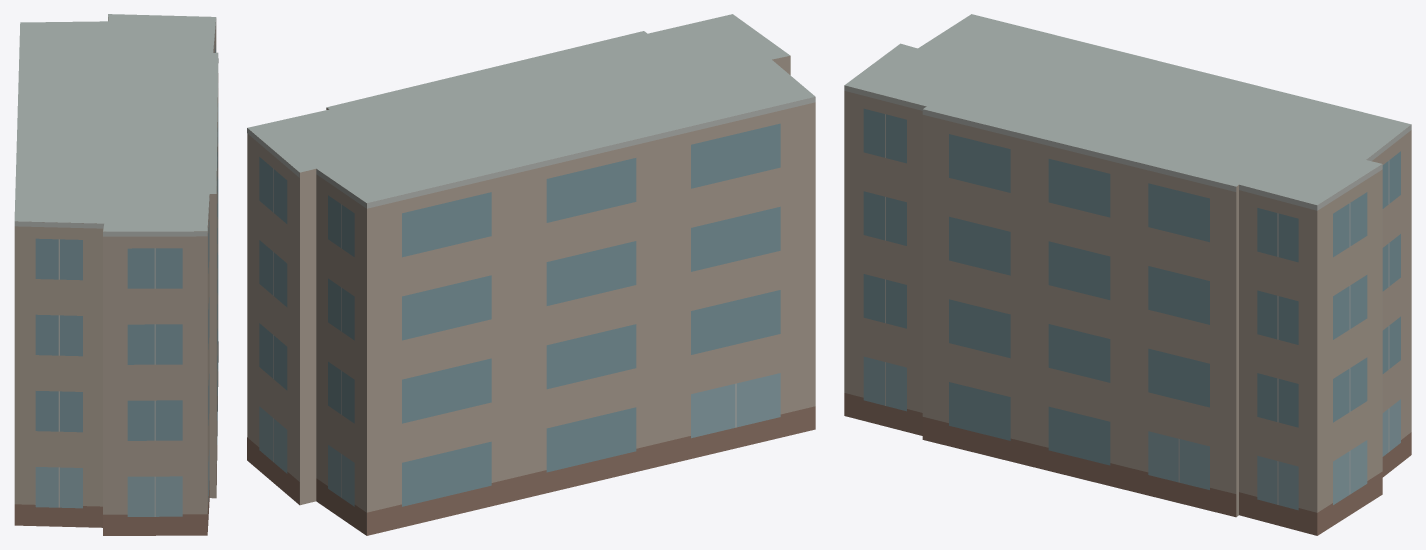
Rendered from survey-upis-32624786.glb.
3 views of the same model, side by side, from view 1: azimuth 30°, elevation 25°; view 2: azimuth 150°, elevation 25°; view 3: azimuth 270°, elevation 25° (orthographic). The views are drawn at different scales.
Visible parts, largest first — view 1: survey-upis-32624786.tmp; view 2: survey-upis-32624786.tmp; view 3: survey-upis-32624786.tmp.
Part boxes in pixels (box(x1,y1,x2,y2)): survey-upis-32624786.tmp: box(14, 14, 218, 535); survey-upis-32624786.tmp: box(247, 14, 815, 535); survey-upis-32624786.tmp: box(844, 14, 1411, 535).
Size of the model in its own units: 18.32 by 14.75 by 22.95.
